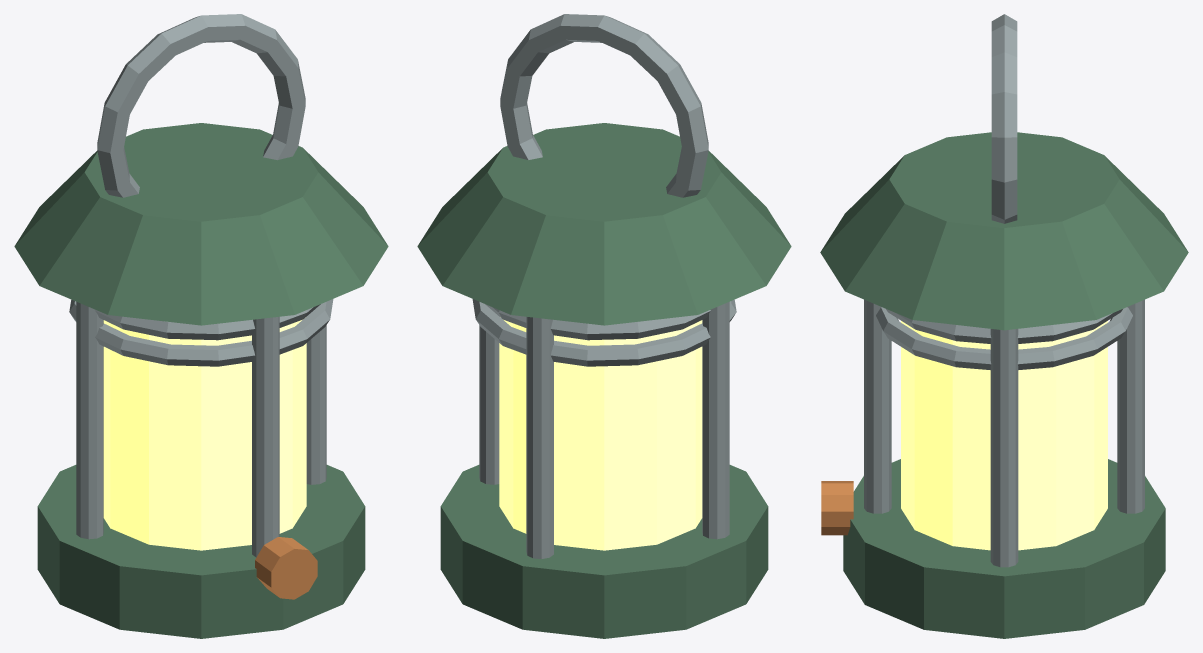
Rendered from Camp_Lantern_A.glb.
3 renders of one model, left to right at view 1: azimuth 30°, elevation 25°; view 2: azimuth 150°, elevation 25°; view 3: azimuth 270°, elevation 25°, orthographic.
Visible parts, largest first — view 1: Camp_Lantern_A; view 2: Camp_Lantern_A; view 3: Camp_Lantern_A.
Part boxes in pixels (x1=…): Camp_Lantern_A: x1=14, y1=14, x2=388, y2=638; Camp_Lantern_A: x1=417, y1=14, x2=791, y2=638; Camp_Lantern_A: x1=820, y1=14, x2=1188, y2=638.
Bounding box in the file's own units: 0.32 × 0.523 × 0.32.
